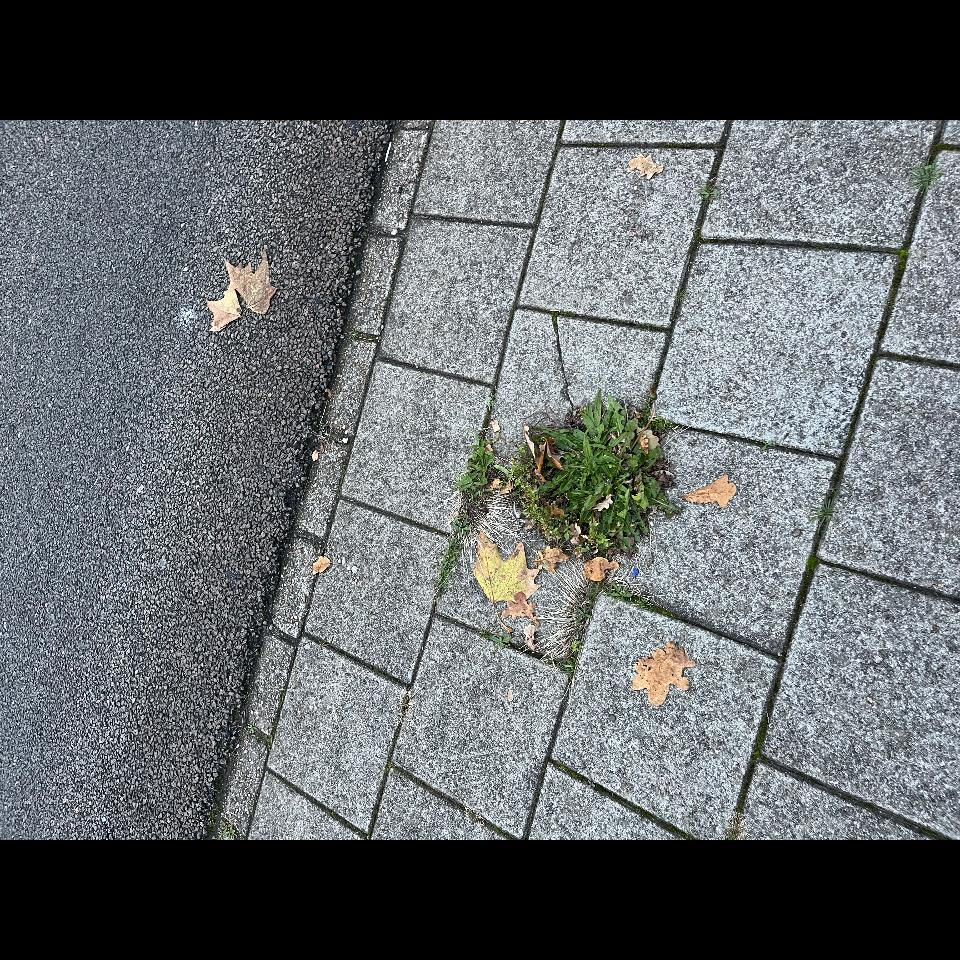weed: (300, 642, 436, 779), (299, 559, 383, 673), (248, 560, 406, 614), (309, 927, 349, 960), (638, 816, 658, 840)
